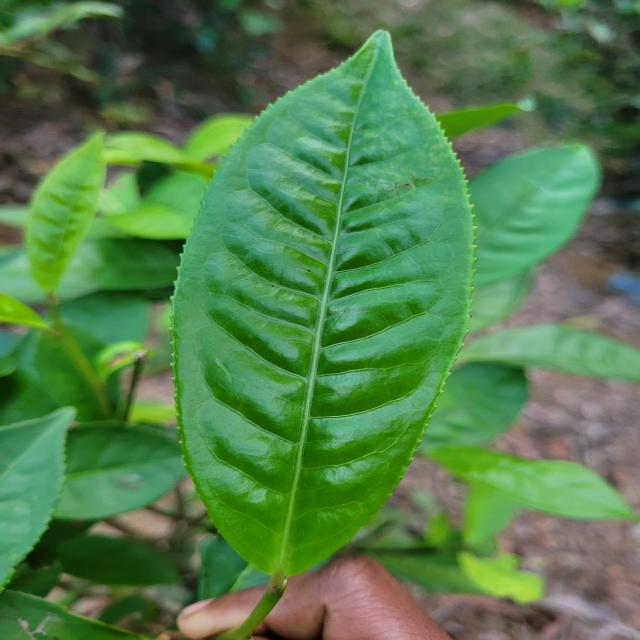Catagory A(1-2 days): (162, 20, 482, 602)
